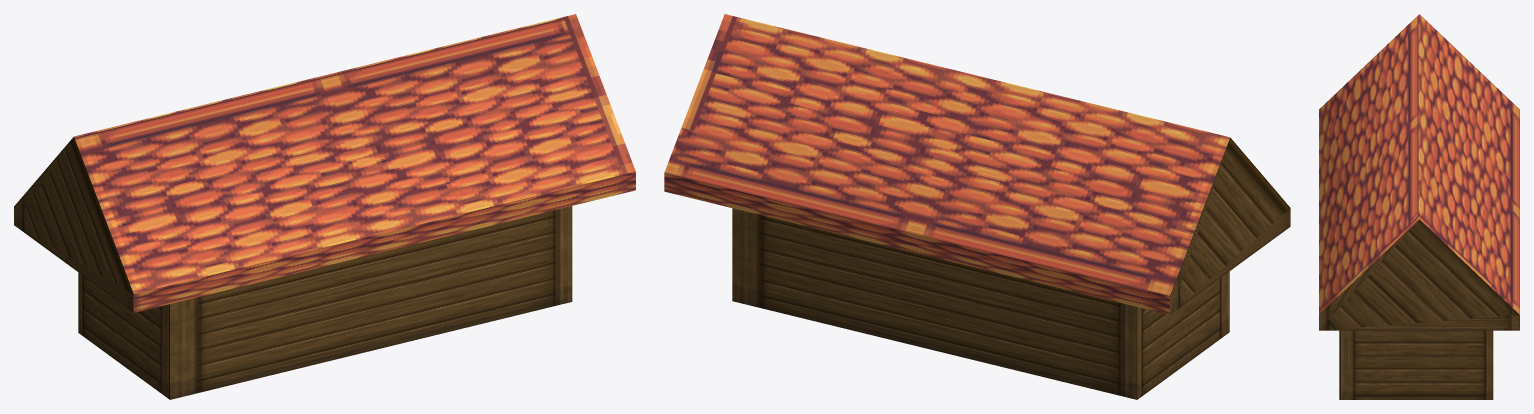
Rendered from walls.FBX.
The picture shows the model from 3 angles, left to right: view 1: azimuth 30°, elevation 25°; view 2: azimuth 150°, elevation 25°; view 3: azimuth 270°, elevation 25°; orthographic projection. The views are drawn at different scales.
Visible parts, largest first — view 1: Box002, Box001; view 2: Box002, Box001; view 3: Box002, Box001.
Boxes of the visible parts, left/top/right/bottom form: Box002: left=14, top=14, right=635, bottom=312; Box001: left=78, top=206, right=572, bottom=399; Box002: left=664, top=14, right=1290, bottom=314; Box001: left=732, top=208, right=1229, bottom=399; Box002: left=1319, top=14, right=1519, bottom=330; Box001: left=1339, top=330, right=1493, bottom=399.
Bounding box in the file's own units: 95.03 × 43.48 × 39.26.
1 material, 1 textured.
